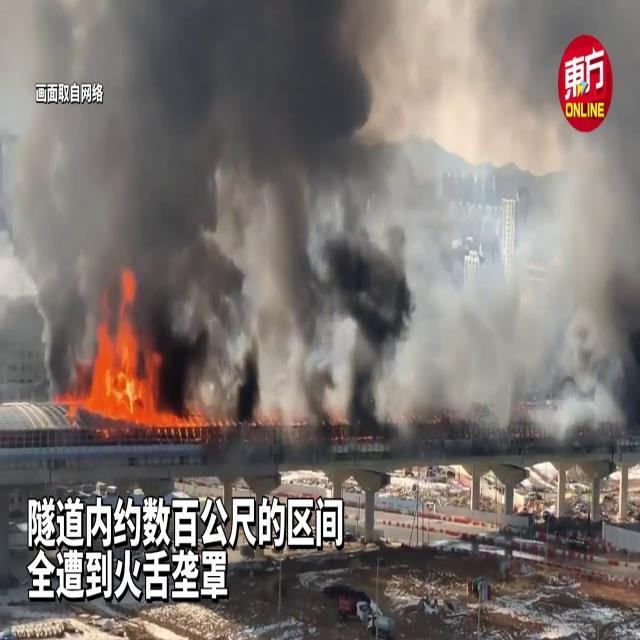Fire: (63, 278, 169, 432), (152, 402, 208, 436)
Smoke: (3, 1, 640, 445)
